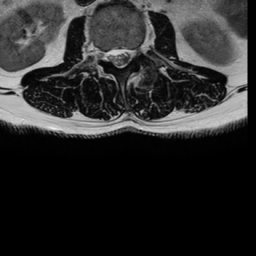CCS_normal: (115, 41, 123, 74)
LFS_normal: (131, 40, 142, 65)
LLS_normal: (123, 40, 131, 70)
RFS_normal: (99, 42, 107, 67)
RLS_normal: (107, 41, 115, 68)
